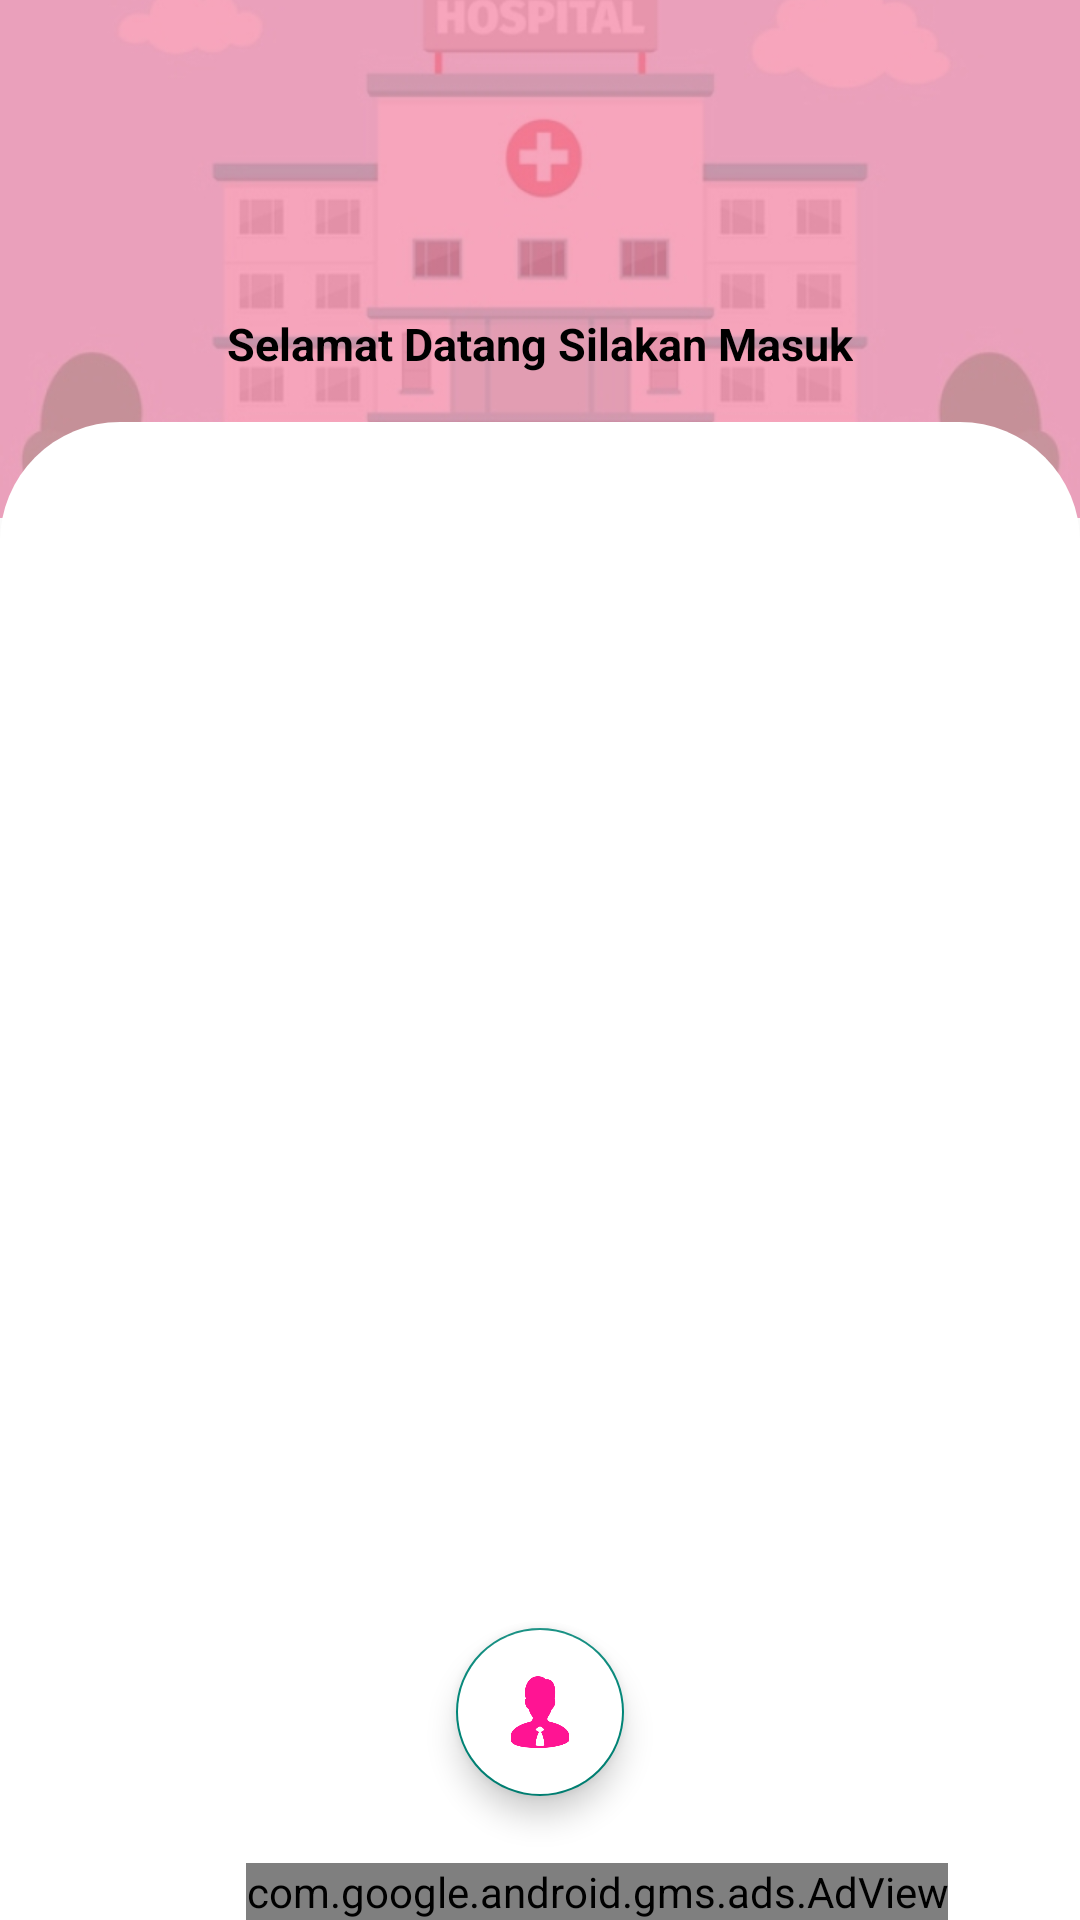

Icon bounding boxes for this 1080w x 1920h phone screenshot, format [x1, y1, x2, y2]:
pinkadmin: [456, 1628, 624, 1796]
